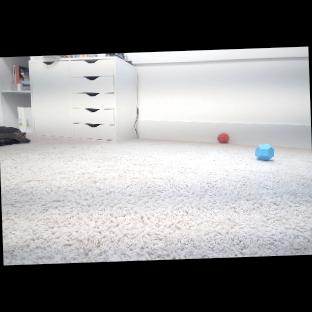V5_BLUE: (254, 144, 275, 163)
V5_RED: (218, 134, 229, 144)
